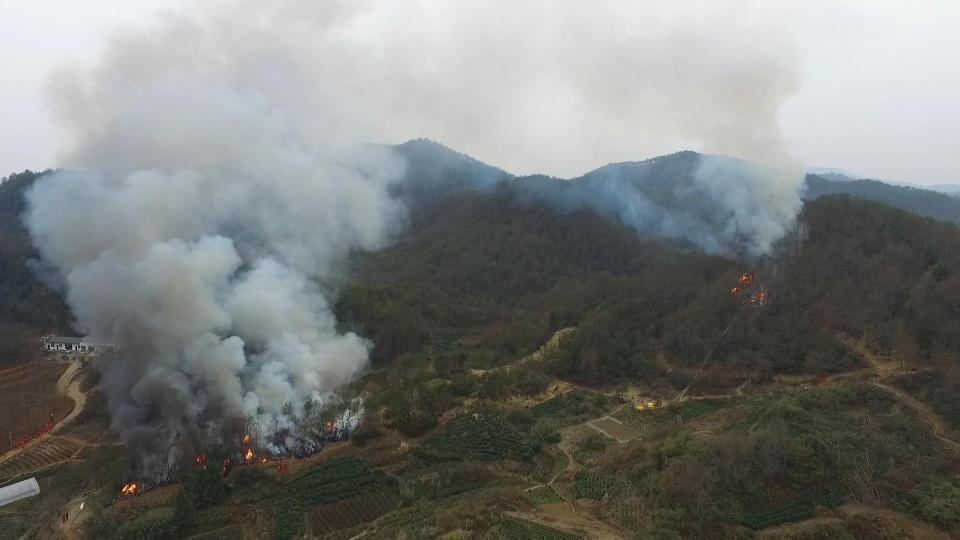fire: (192, 431, 282, 479), (727, 257, 775, 314), (312, 417, 342, 440), (117, 477, 145, 499)
